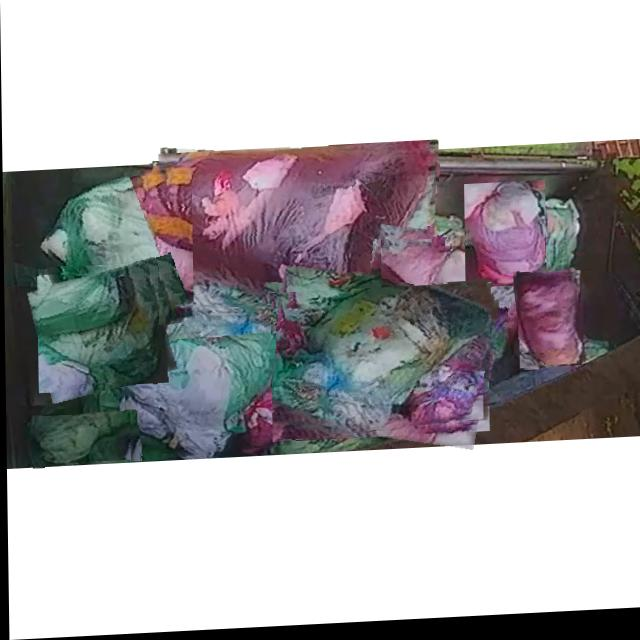general_trashbag: (271, 291, 490, 437), (123, 312, 289, 457), (46, 178, 193, 331), (40, 267, 158, 382), (31, 412, 128, 465)
other_trashbag: (153, 154, 437, 340), (466, 189, 544, 291), (426, 296, 506, 386), (514, 280, 581, 370), (381, 245, 448, 308)
